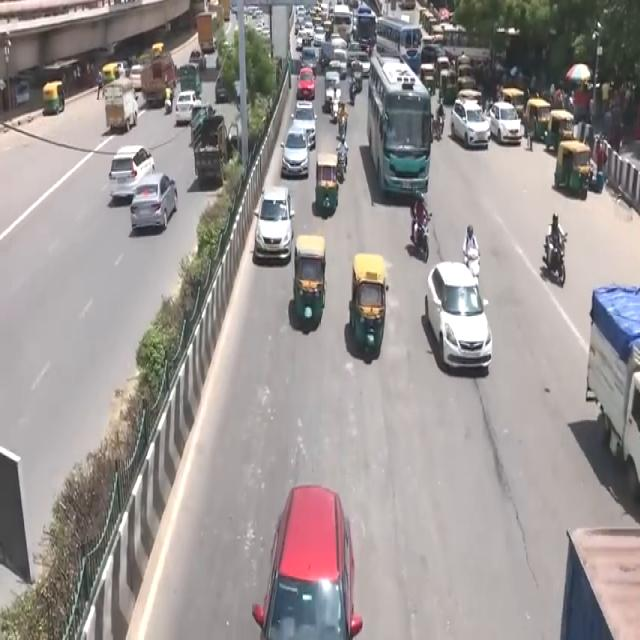BUS: (366, 60, 430, 200)
MOTORCYCLE: (550, 238, 568, 288), (415, 213, 432, 262)
TRUCK: (584, 292, 636, 548)
